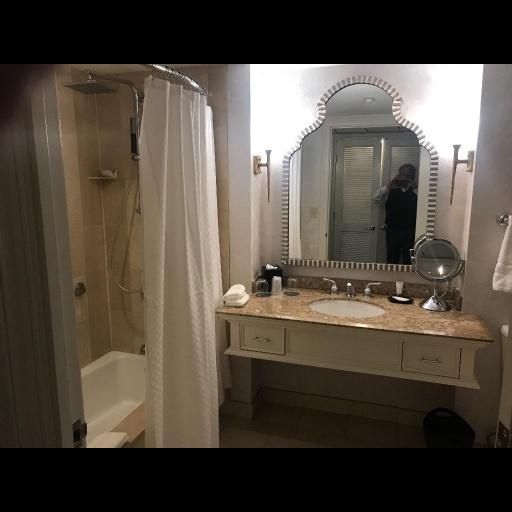clean mirror: (272, 109, 445, 267)
clean shower: (51, 58, 222, 452)
clean_sink: (232, 254, 494, 391)
